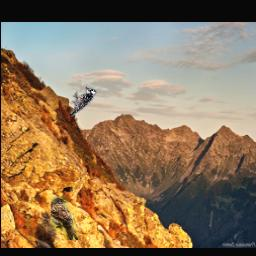Sparrow: (51, 196, 79, 240)
Woodpecker: (69, 87, 96, 117)
